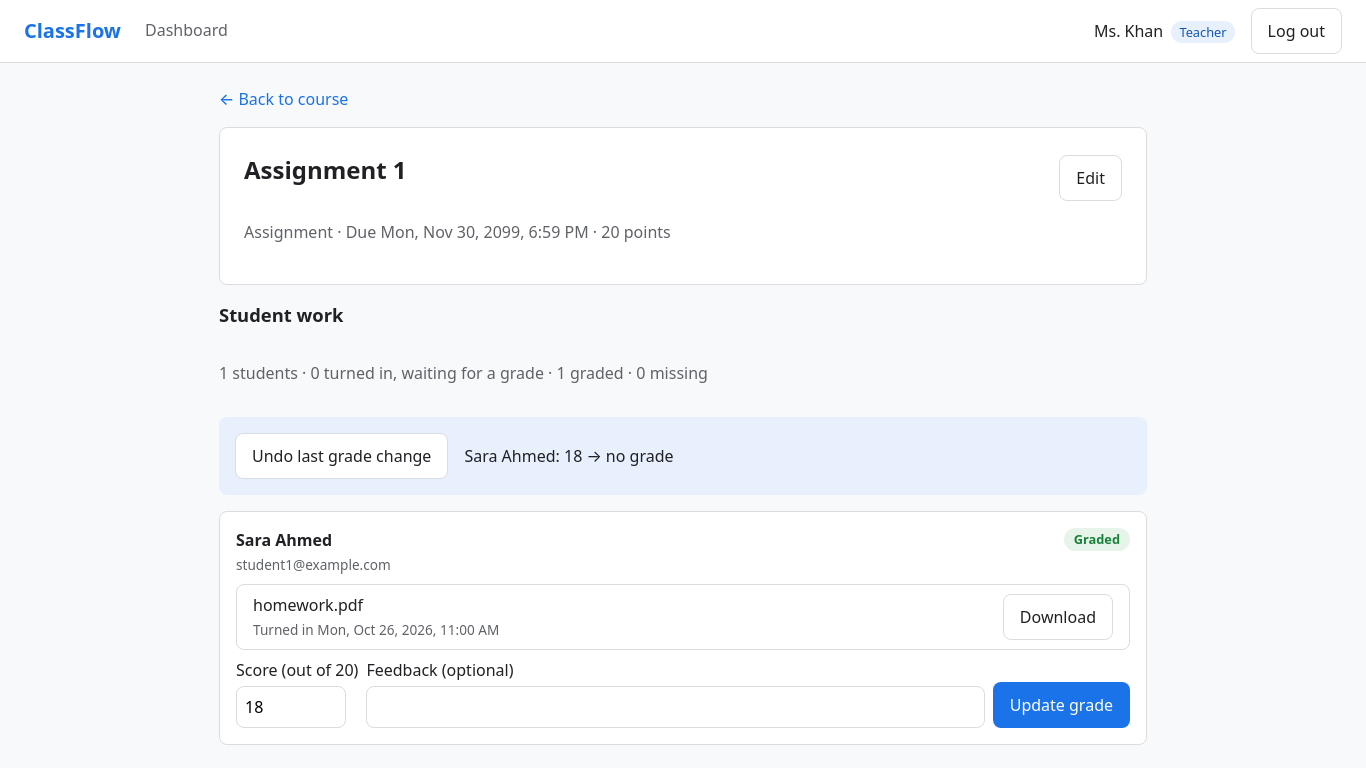
Test: undo last grade change › shows what undo will do, then undoes a first grade
Expected: the text "Sara Ahmed: 18 → no grade" is shown, x1=464 y1=444 x2=674 y2=468
Click the button "Undo last grade change" at [342, 456], box x1=235 y1=433 x2=448 y2=479
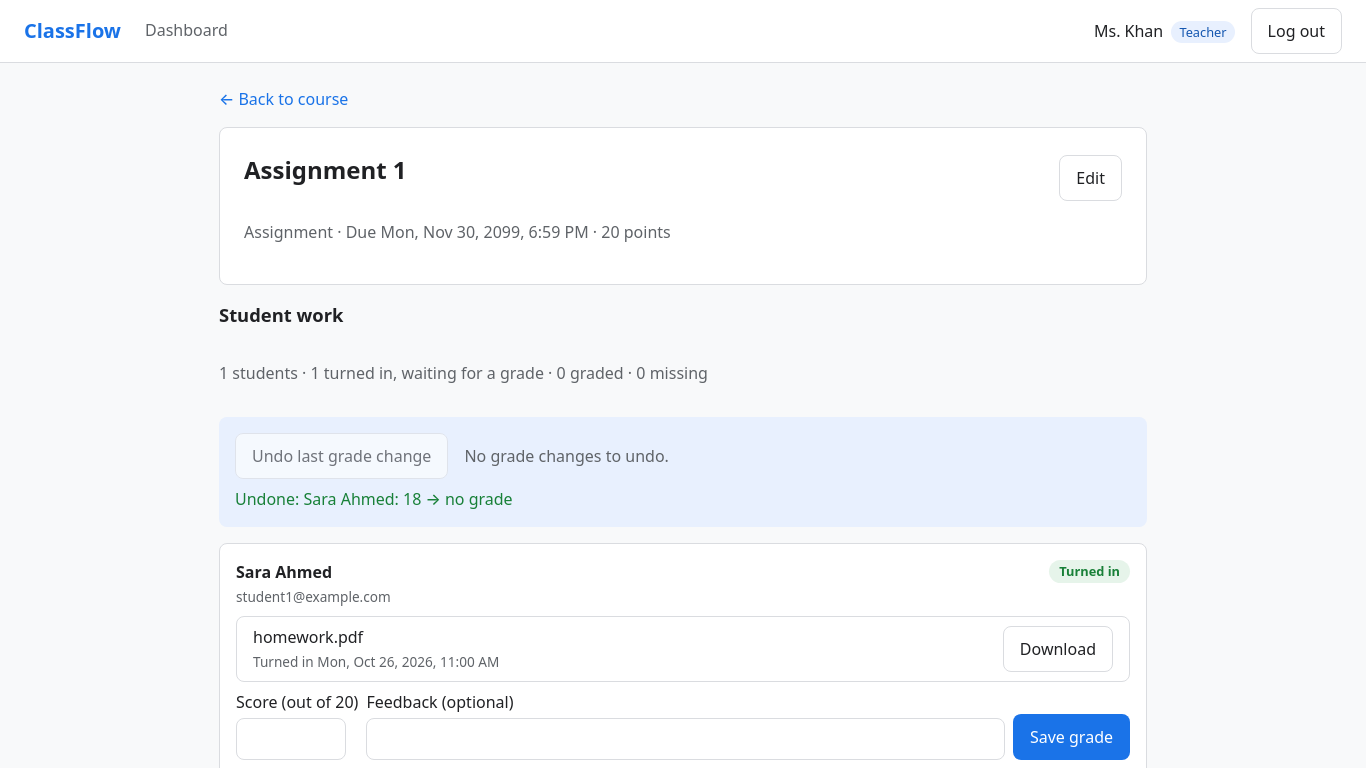
Now the text "Undone: Sara Ahmed: 18 → no grade" is shown, box x1=235 y1=488 x2=513 y2=510
Now the text "No grade changes to undo." is shown, box x1=464 y1=444 x2=669 y2=468
Now the button "Undo last grade change" is disabled, box x1=235 y1=433 x2=448 y2=479
